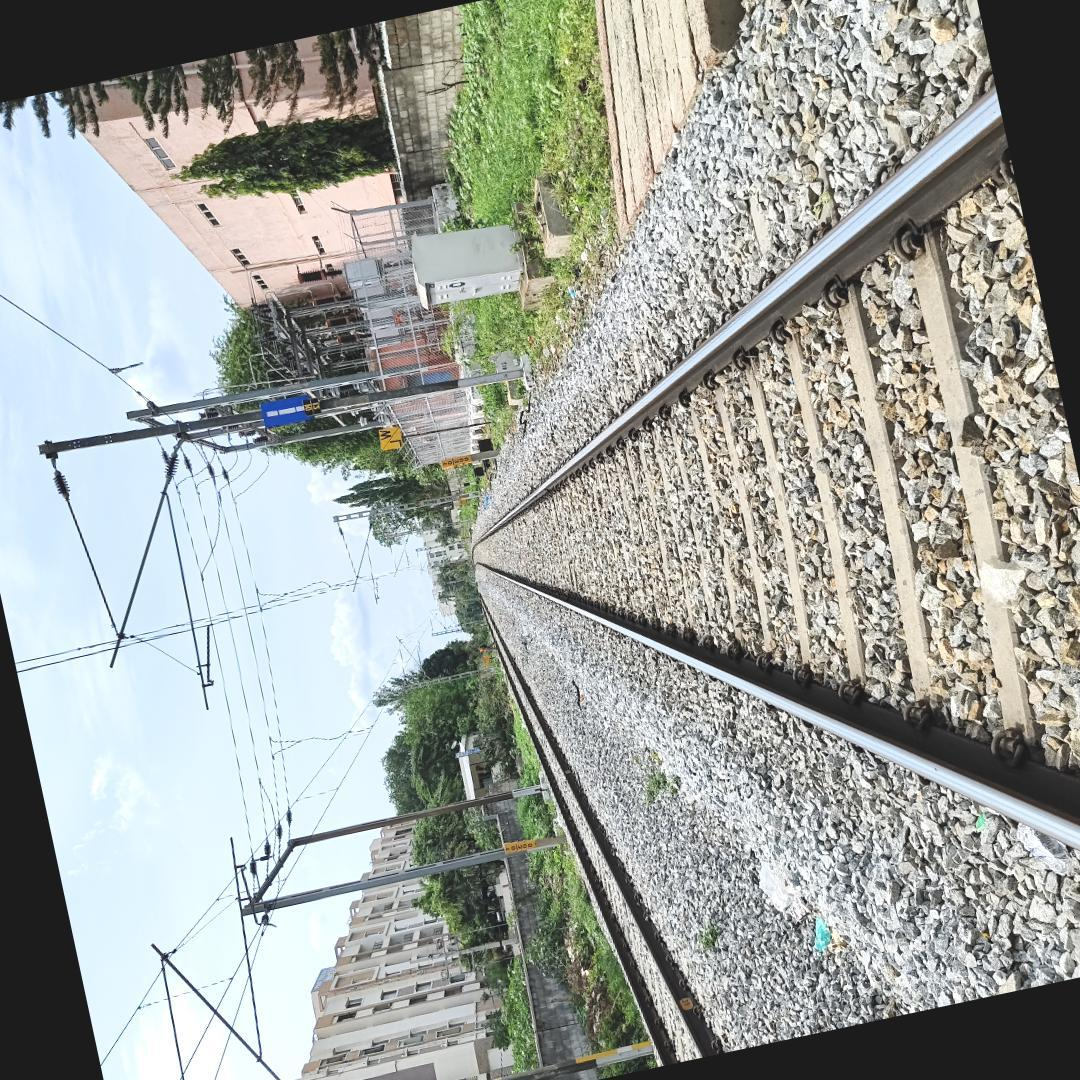track: (451, 59, 1080, 880)
